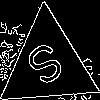S: (23, 39, 72, 96)
